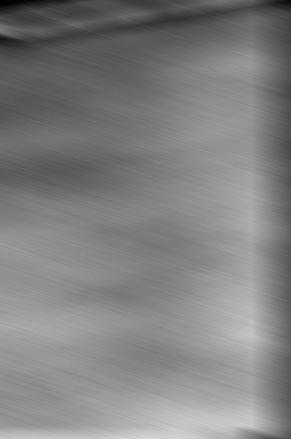Airbag: (0, 1, 291, 438), (275, 11, 291, 439)
